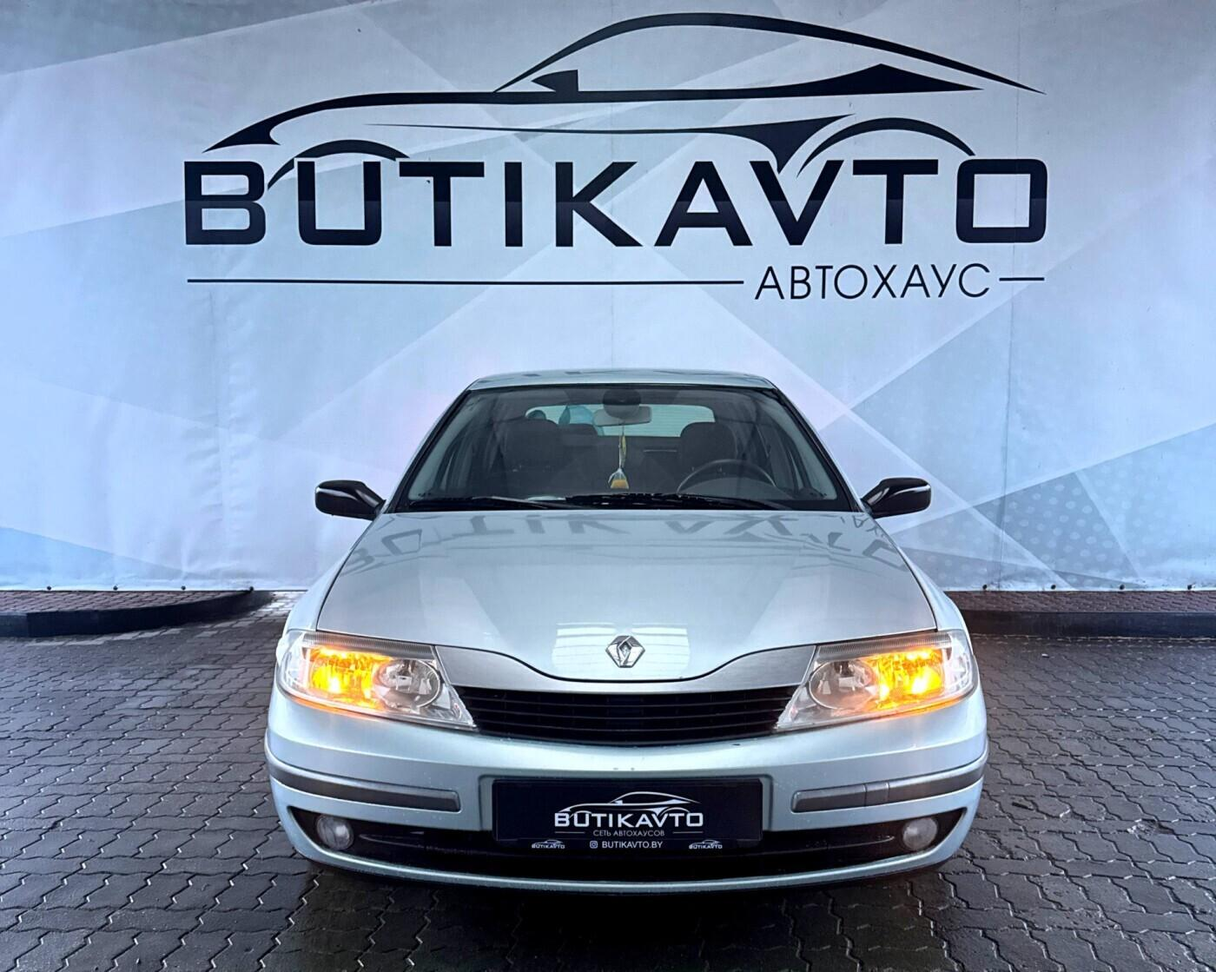Laguna_2001-2005: (264, 369, 988, 892)
